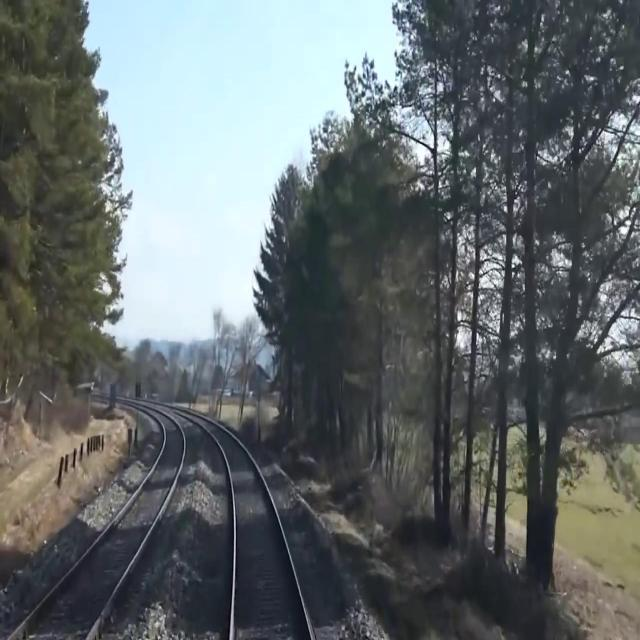rail-track: (14, 416, 182, 639), (208, 424, 309, 639)
